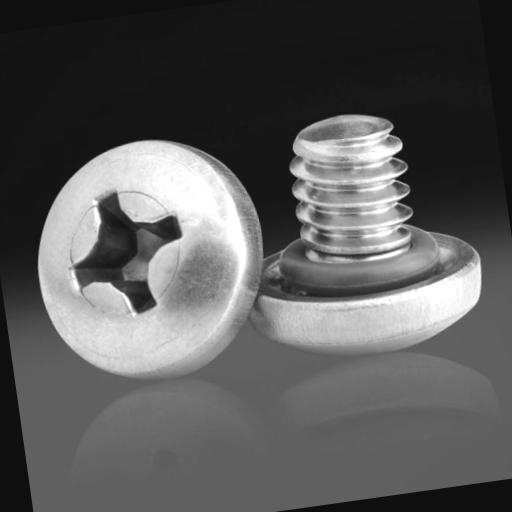Phillips: (17, 118, 296, 402)
